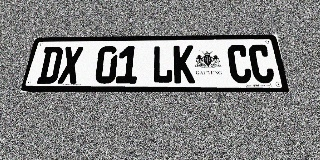0: (94, 46, 118, 84)
1: (116, 46, 139, 84)
C: (248, 44, 276, 83), (227, 45, 253, 83)
D: (36, 47, 64, 84)
K: (173, 45, 195, 83)
L: (152, 46, 173, 83)
X: (57, 46, 84, 84)
